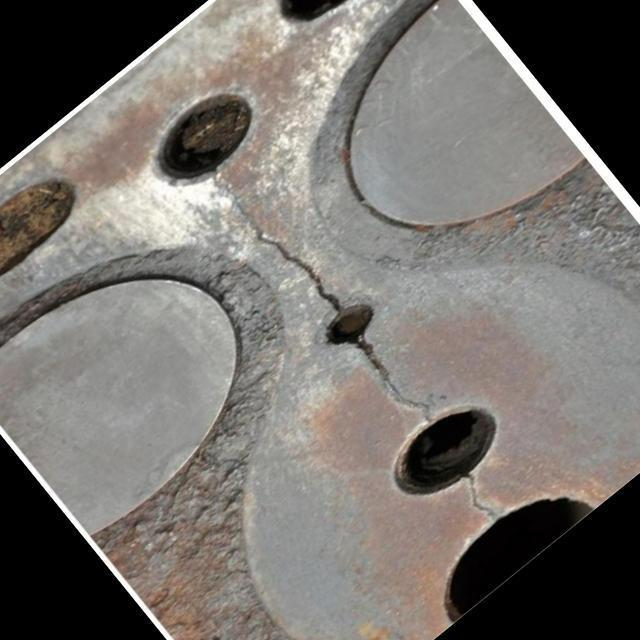defect: (205, 160, 347, 314), (346, 327, 436, 424), (456, 471, 506, 523)
